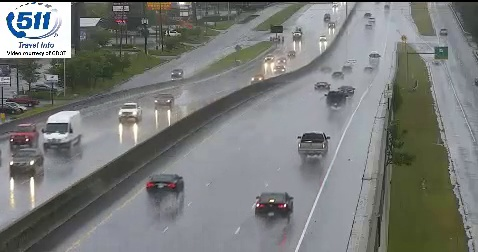car: (255, 192, 293, 217), (147, 174, 184, 195), (299, 132, 328, 156), (326, 90, 345, 107)
